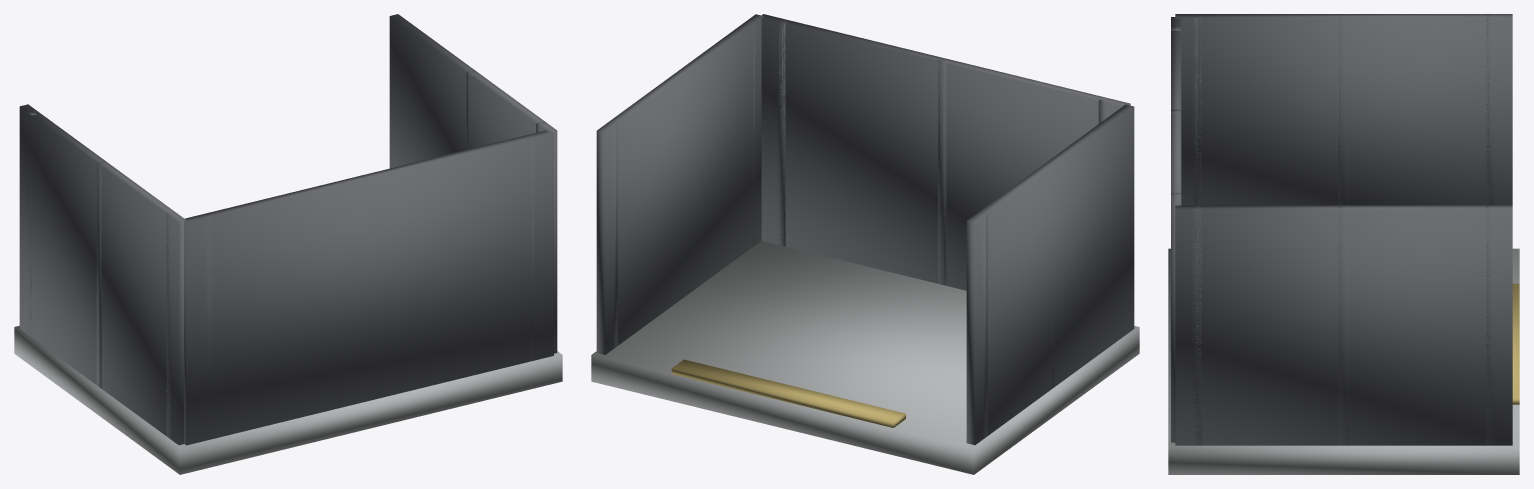
The model's file is floor_w180_d135_three.glb.
The picture shows the model from 3 angles, left to right: view 1: azimuth 30°, elevation 25°; view 2: azimuth 150°, elevation 25°; view 3: azimuth 270°, elevation 25°; orthographic projection. The views are drawn at different scales.
Parts seen in each view (by area): view 1: world; view 2: world; view 3: world.
Boxes of the visible parts, bbox=[...] form: world: bbox=[14, 14, 562, 474]; world: bbox=[591, 14, 1139, 474]; world: bbox=[1168, 14, 1519, 474].
Size of the model in its own units: 1.8 by 1.12 by 1.35.
